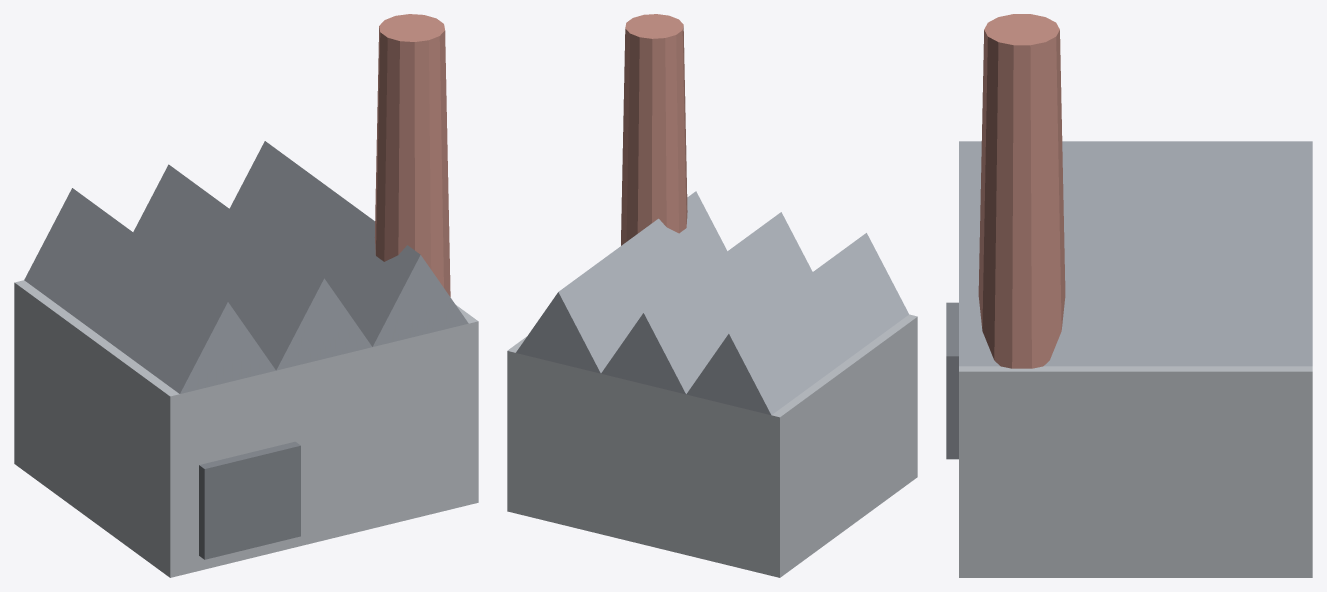
File: factory.glb
The picture shows the model from 3 angles, left to right: view 1: azimuth 30°, elevation 25°; view 2: azimuth 150°, elevation 25°; view 3: azimuth 270°, elevation 25°; orthographic projection. The views are drawn at different scales.
Visible parts, largest first — view 1: box.001, prism.001, prism.002, prism, cyl, box; view 2: box.001, prism.001, prism.002, prism, cyl; view 3: box.001, prism, cyl, prism.001, prism.002, box.
Boxes of the visible parts, box(x1,y1,x2,y2) form: box.001: box(14, 280, 478, 577); prism.001: box(24, 188, 275, 393); prism.002: box(133, 164, 372, 370); prism: box(229, 141, 468, 346); cyl: box(374, 14, 450, 296); box: box(199, 441, 300, 559); box.001: box(507, 314, 917, 577); prism.001: box(686, 233, 908, 415); prism.002: box(601, 212, 812, 394); prism: box(516, 191, 727, 373); cyl: box(621, 14, 687, 245); box.001: box(959, 366, 1312, 577); prism: box(959, 248, 1312, 366); cyl: box(978, 14, 1065, 368); prism.001: box(959, 141, 1312, 194); prism.002: box(959, 194, 1312, 247); box: box(946, 302, 958, 459).
Bounding box in the file's own units: 1.6 × 2.3 × 1.45.
